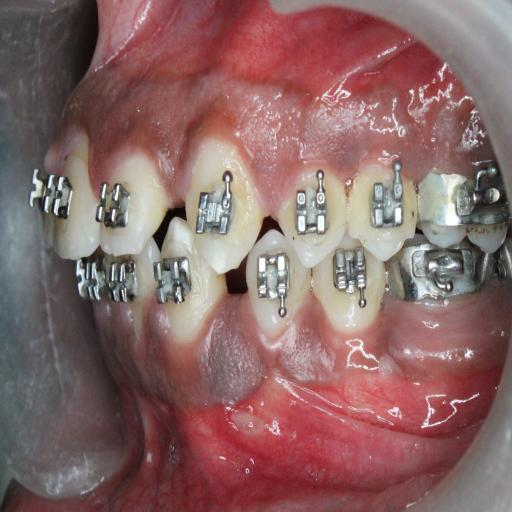correct_brace: (280, 164, 349, 263), (244, 232, 308, 331), (196, 167, 237, 242), (155, 248, 196, 318), (96, 168, 135, 238), (254, 249, 294, 314)
incorrect_brace: (96, 154, 167, 258), (292, 170, 333, 238)
